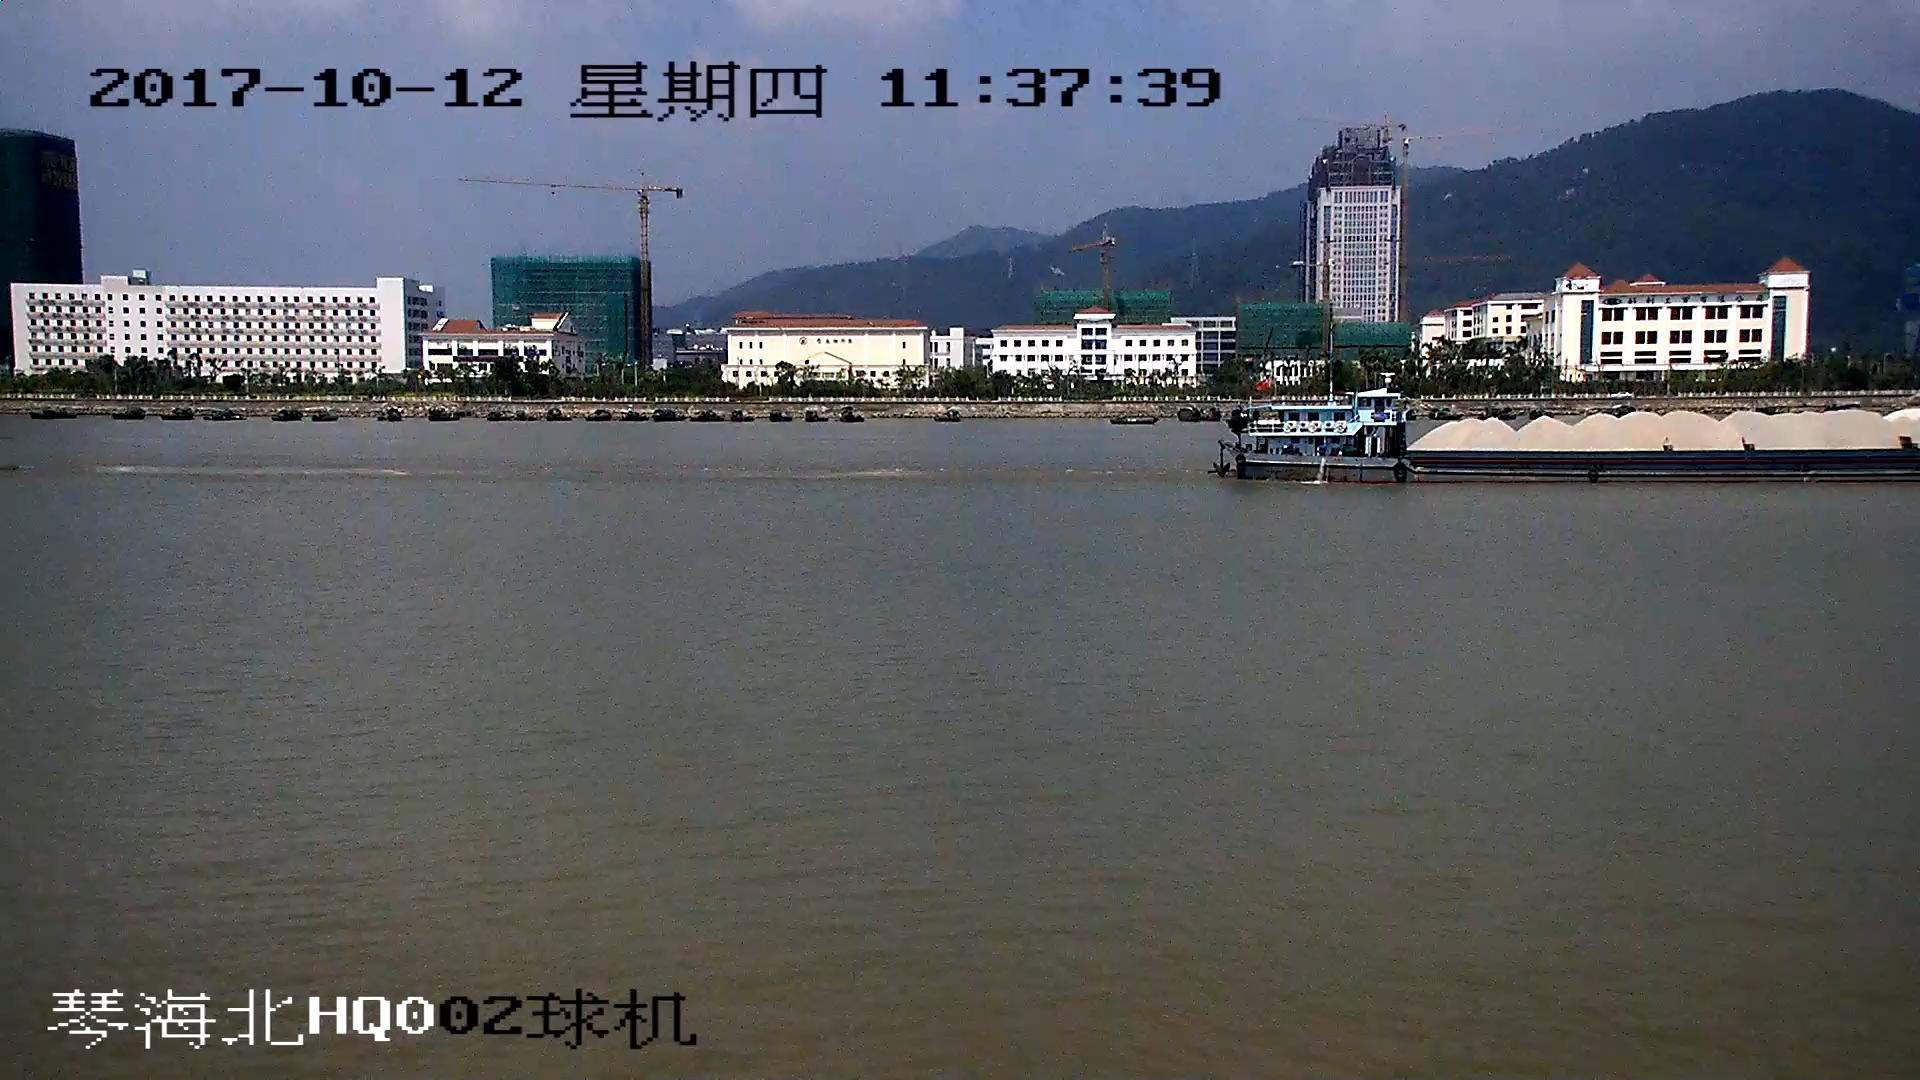ore carrier: (1228, 393, 1920, 485)
